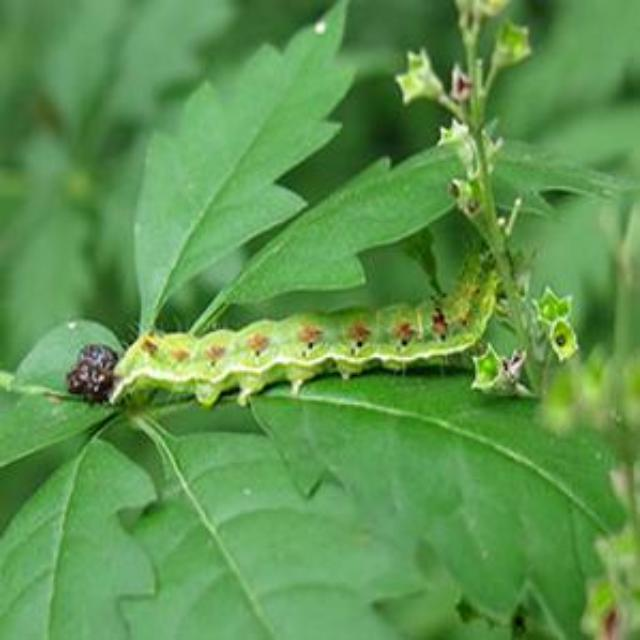Cotton bollworm: (92, 236, 554, 438)
